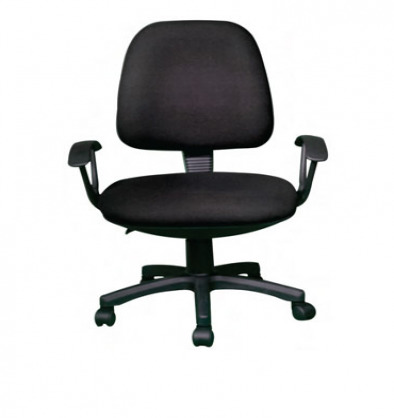chairs: (64, 19, 333, 351)
